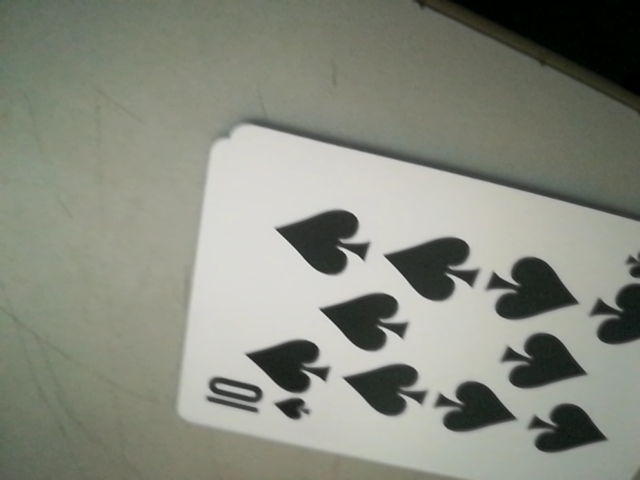ht 10: (195, 373, 329, 428)
